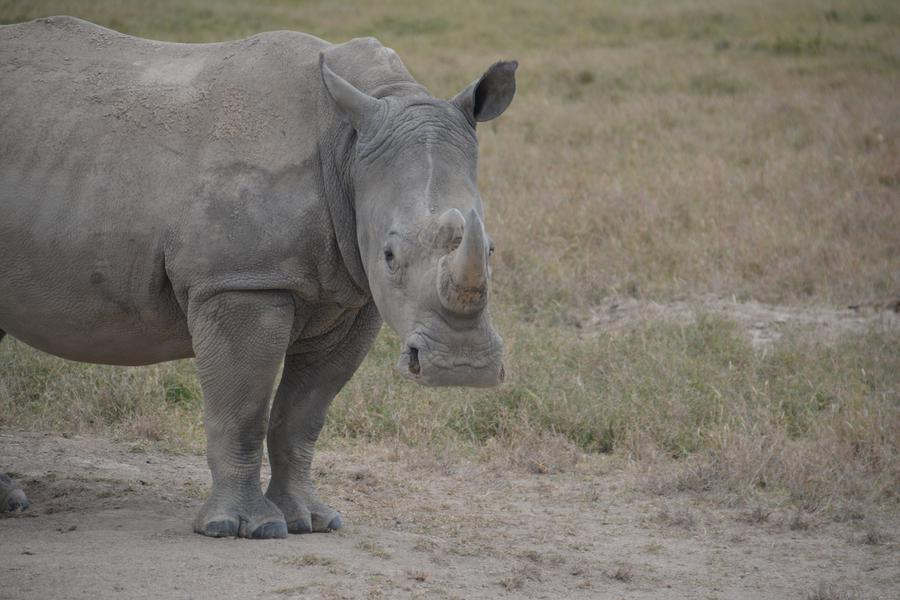rhino: (13, 26, 527, 485)
